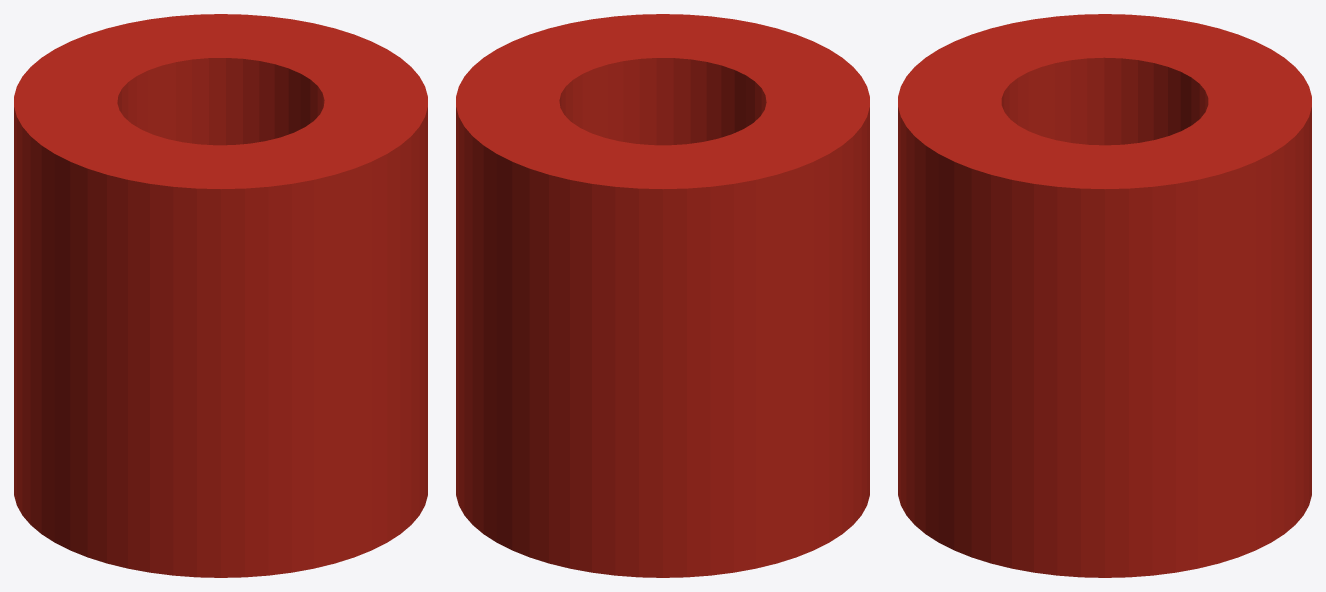
The model's file is blade_Body1.obj.
The picture shows the model from 3 angles, left to right: view 1: azimuth 30°, elevation 25°; view 2: azimuth 150°, elevation 25°; view 3: azimuth 270°, elevation 25°; orthographic projection.
Bounding box in the file's own units: 200 × 207 × 200.
